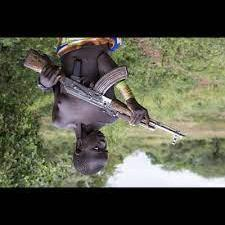larga: (22, 48, 186, 146)
